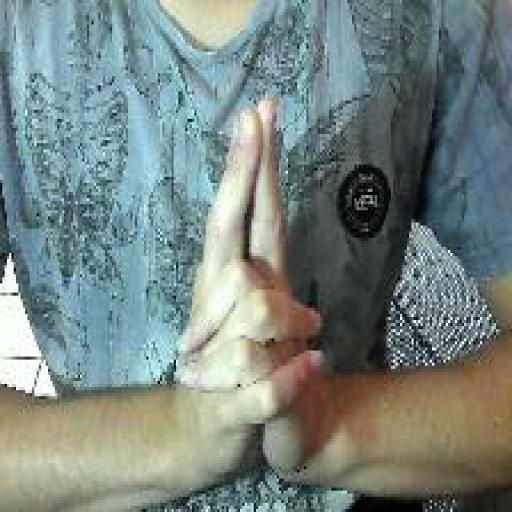Tora -tiger-: (174, 88, 327, 497)
